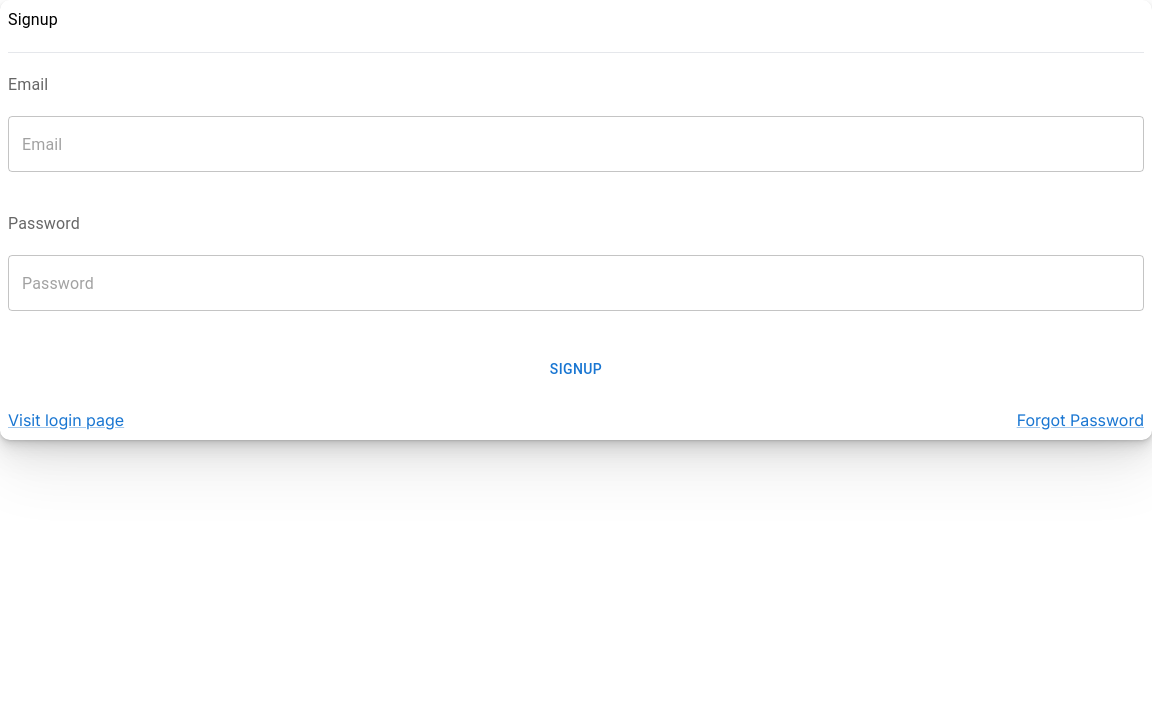
user sign up component › should displays validation error for invalid email format
Type "invalidemail" into the field with placeholder "Email".
click(576, 144); type("invalidemail")  # box [8,116,1144,172]
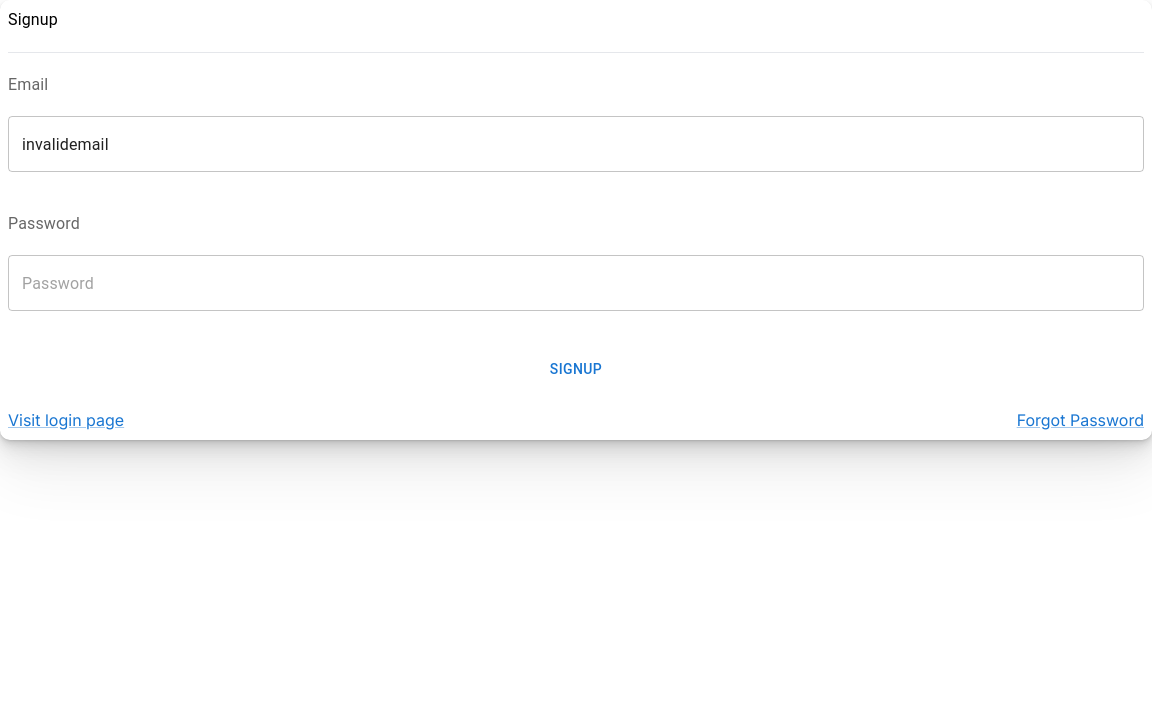
Click the button with test id "signup-button".
click(576, 369)  # box [8,351,1144,388]
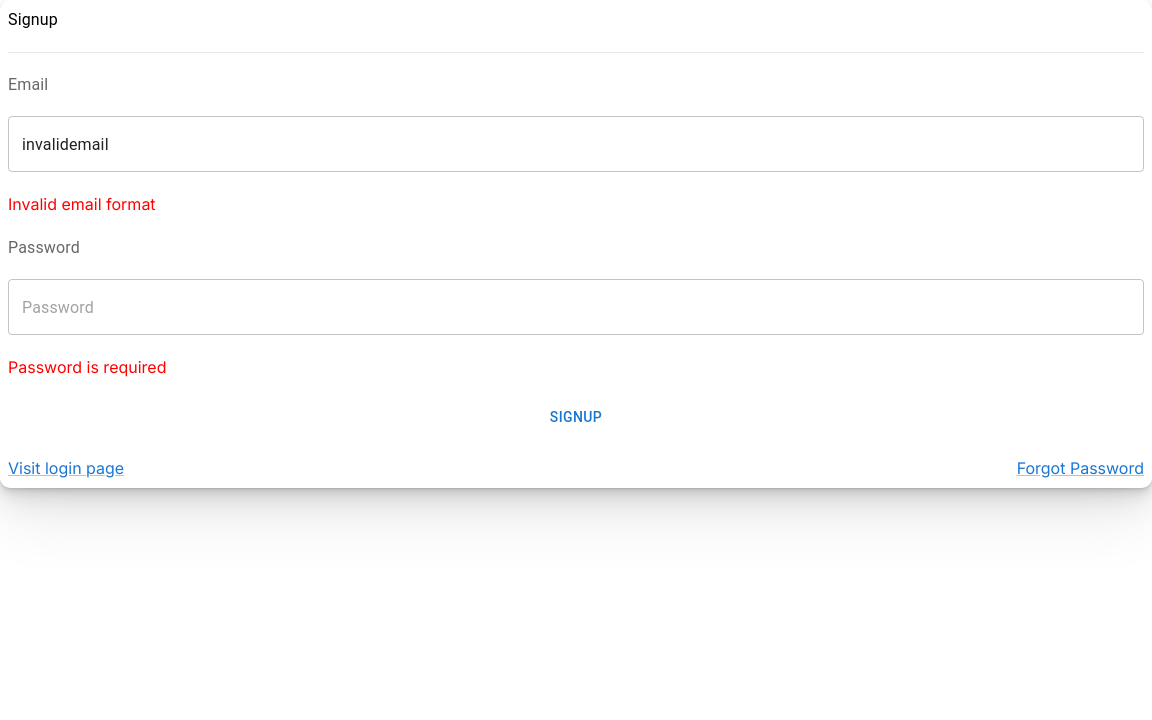
Check: the text "Invalid email format" is shown, box [8,194,156,214]
